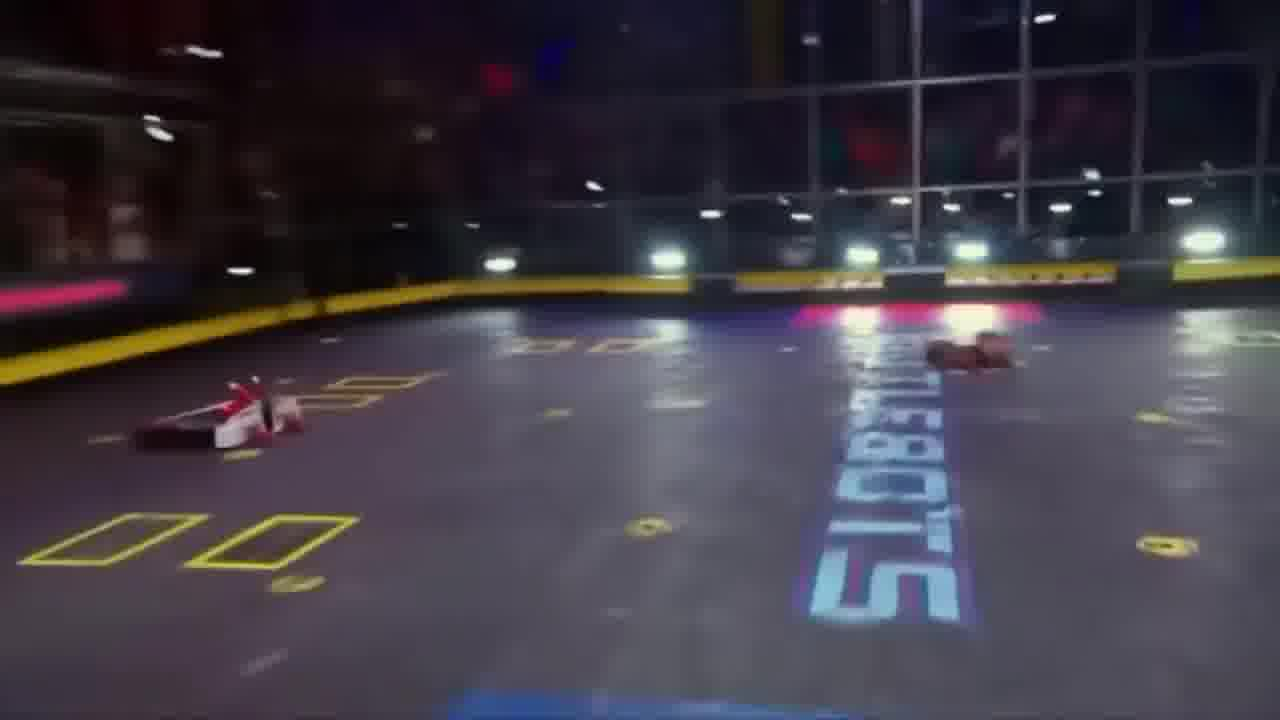combatbot: (128, 376, 310, 452), (925, 321, 1035, 372)
